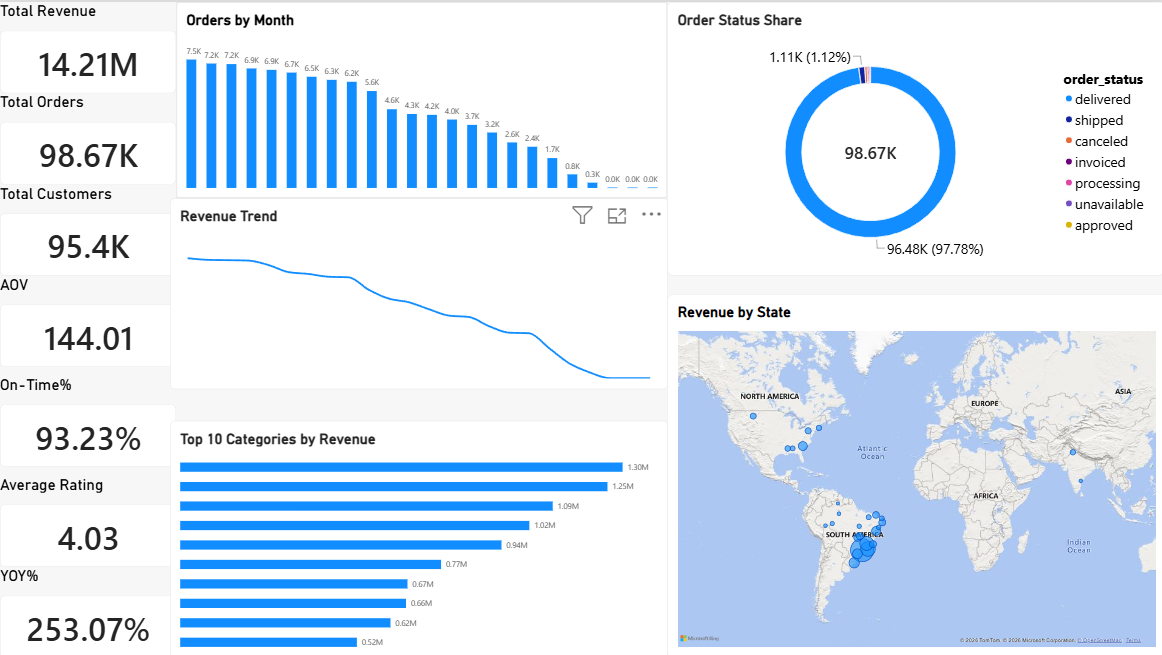

Layout of this report page (visuals, bound fields, positions):
{"tool":"powerbi","page":{"name":"Business(Executive Dashboard)","canvas":[1920,1080],"ordinal":0},"visuals":[{"type":"cardVisual","title":"Total Revenue","fields":{"Data":["public bi_fact_sales.Revenue"]},"box":[0,0,290.2,150.3],"z":0},{"type":"cardVisual","title":"Total Orders","fields":{"Data":["public bi_fact_sales.Orders"]},"box":[0,150.3,290.2,150.3],"z":1},{"type":"cardVisual","title":"Total Customers","fields":{"Data":["public bi_fact_sales.Customers"]},"box":[0,300.5,290.2,150.3],"z":2},{"type":"cardVisual","title":"AOV","fields":{"Data":["public bi_fact_sales.AOV"]},"box":[0,450.8,290.2,150.3],"z":3},{"type":"cardVisual","title":"On-Time%","fields":{"Data":["public bi_fact_sales.On-time %"]},"box":[0,615.4,290.2,150.3],"z":4},{"type":"cardVisual","title":"Average Rating","fields":{"Data":["public bi_fact_sales.Avg Rating"]},"box":[0,780.1,290.2,150.3],"z":5},{"type":"cardVisual","title":"YOY%","fields":{"Data":["public bi_fact_sales.YoY %"]},"box":[0,930.4,290.2,150.3],"z":6},{"type":"lineChart","title":"Revenue Trend","fields":{"Category":["DimDate.Year-Month"],"Y":["public bi_fact_sales.Revenue"]},"box":[290.2,376.7,820,314],"z":7},{"type":"clusteredColumnChart","title":"Orders by Month","fields":{"Category":["DimDate.Year-Month"],"Y":["public bi_fact_sales.Orders"]},"box":[294.3,0,811,376.7],"z":8},{"type":"barChart","title":"Top 10 Categories by Revenue","fields":{"Category":["public bi_fact_sales.category"],"Y":["public bi_fact_sales.Revenue"]},"box":[290.2,691.6,820,390],"z":9},{"type":"map","title":"Revenue by State","fields":{"Category":["public bi_fact_sales.customer_state"],"Size":["public bi_fact_sales.Revenue"]},"box":[1100,482,822,598],"z":10},{"type":"donutChart","title":"Order Status Share","fields":{"Category":["public bi_fact_sales.order_status"],"Y":["public bi_fact_sales.Orders"]},"box":[1109.4,0,811,481.6],"z":11},{"type":"textbox","box":[100.9,0,1780.5,732.8],"z":12},{"type":"textbox","box":[100,100,300,300],"z":13},{"type":"textbox","box":[100,100,300,300],"z":14},{"type":"textbox","box":[100.9,376.7,471.4,22.6],"z":15}]}

Visuals, with their boxes in screenshot pixels (x1, y1, x2, y2), scaled from the page's 1920x1080 canvas onto the 1162x655 screenshot:
"Total Revenue" cardVisual: select_region(0, 0, 176, 91)
"Total Orders" cardVisual: select_region(0, 91, 176, 182)
"Total Customers" cardVisual: select_region(0, 182, 176, 273)
"AOV" cardVisual: select_region(0, 273, 176, 365)
"On-Time%" cardVisual: select_region(0, 373, 176, 464)
"Average Rating" cardVisual: select_region(0, 473, 176, 564)
"YOY%" cardVisual: select_region(0, 564, 176, 654)
"Revenue Trend" lineChart: select_region(176, 228, 672, 419)
"Orders by Month" clusteredColumnChart: select_region(178, 0, 669, 228)
"Top 10 Categories by Revenue" barChart: select_region(176, 419, 672, 654)
"Revenue by State" map: select_region(666, 292, 1161, 654)
"Order Status Share" donutChart: select_region(671, 0, 1161, 292)
textbox: select_region(61, 0, 1139, 444)
textbox: select_region(61, 61, 242, 243)
textbox: select_region(61, 61, 242, 243)
textbox: select_region(61, 228, 346, 242)
